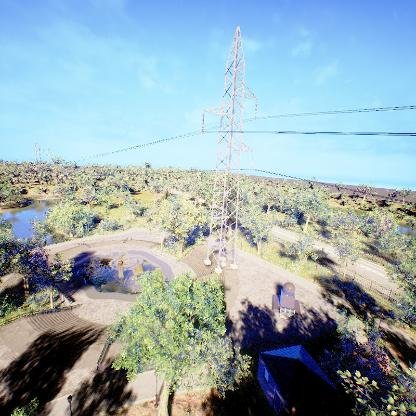tower: (198, 24, 263, 276)
